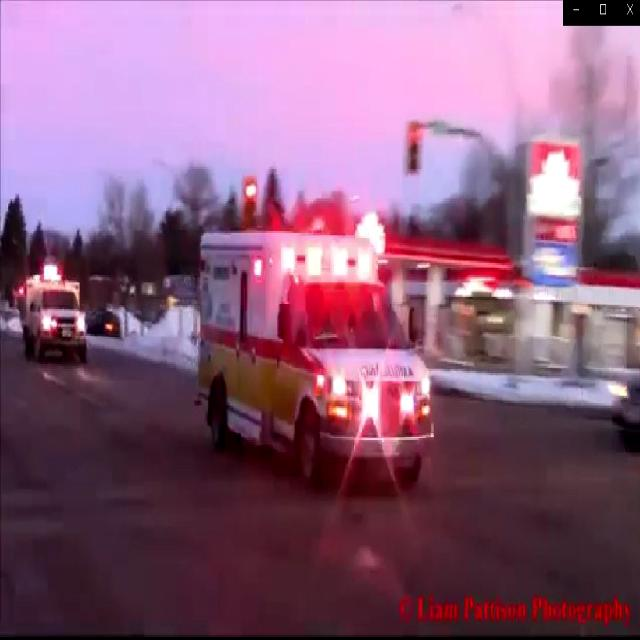emergency: (191, 216, 438, 499), (17, 261, 92, 374)
